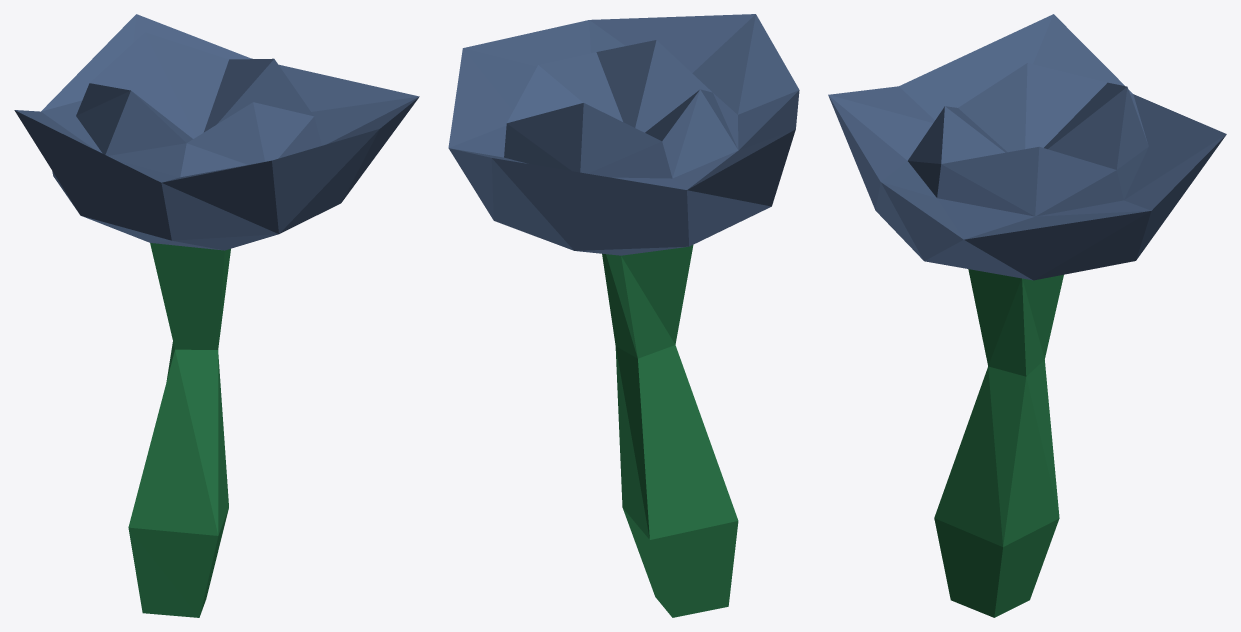
Rendered from SM_Env_Flower_08-optimized.glb.
3 renders of one model, left to right at view 1: azimuth 30°, elevation 25°; view 2: azimuth 150°, elevation 25°; view 3: azimuth 270°, elevation 25°, orthographic. The views are drawn at different scales.
Parts seen in each view (by area): view 1: SM_Env_Flower_08; view 2: SM_Env_Flower_08; view 3: SM_Env_Flower_08.
Part boxes in pixels (x1=…): SM_Env_Flower_08: x1=14, y1=14, x2=419, y2=617; SM_Env_Flower_08: x1=448, y1=14, x2=799, y2=617; SM_Env_Flower_08: x1=828, y1=14, x2=1226, y2=617.
Bounding box in the file's own units: 2.34 × 3.21 × 2.18.
1 material, 1 textured.
